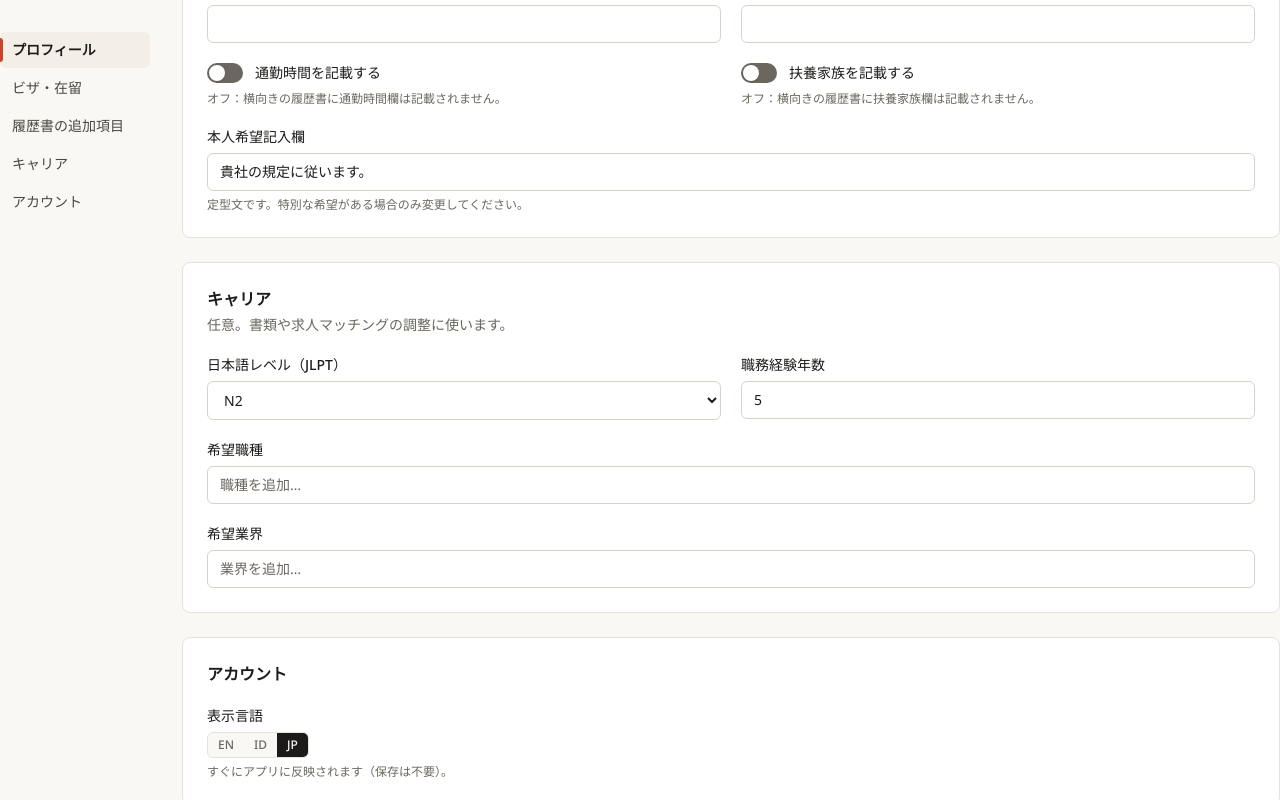
Scenario: settings page, the save bar › shows the years error in the language picked afterwards
The image size is (1280, 800).
(page scrolled)
Replace the text in the number field labelled "職務経験年数" with "81": (998, 400) [741,381,1255,419]
(page scrolled)
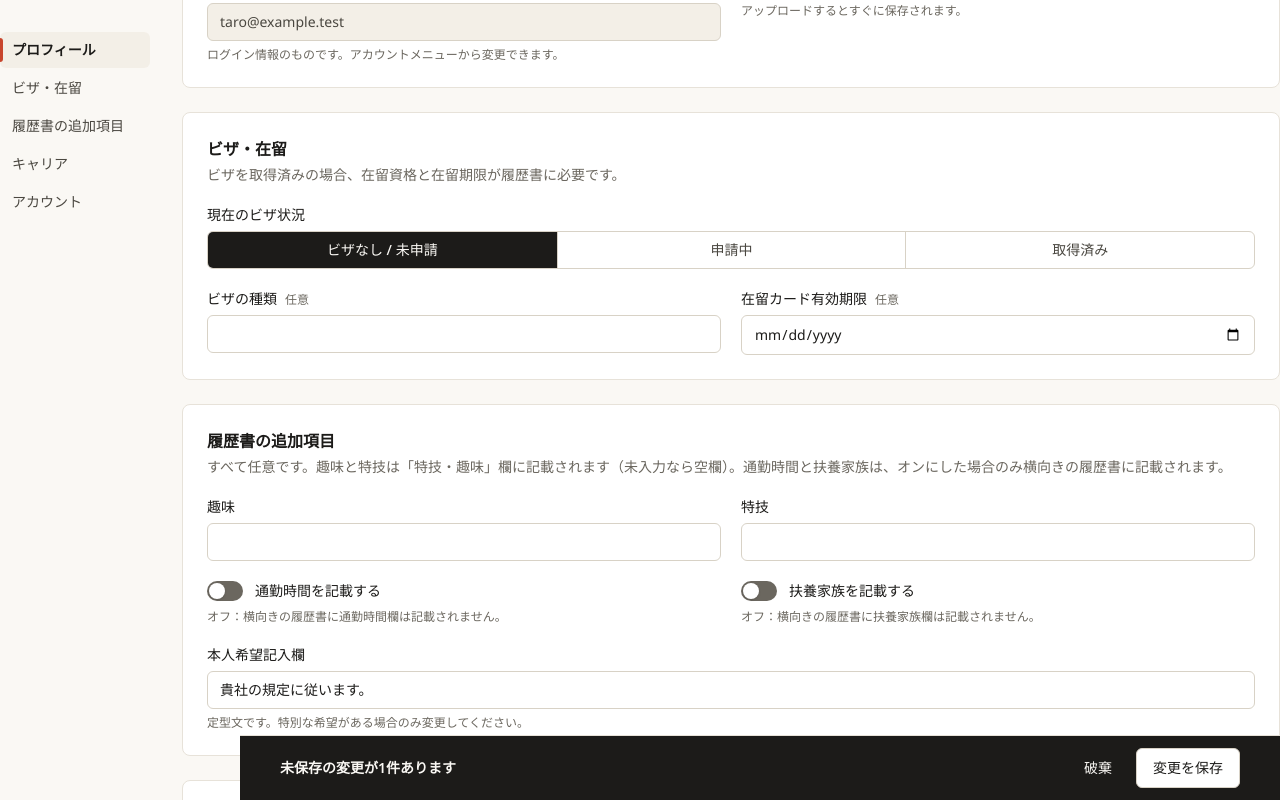
Submit the form
(page scrolled)
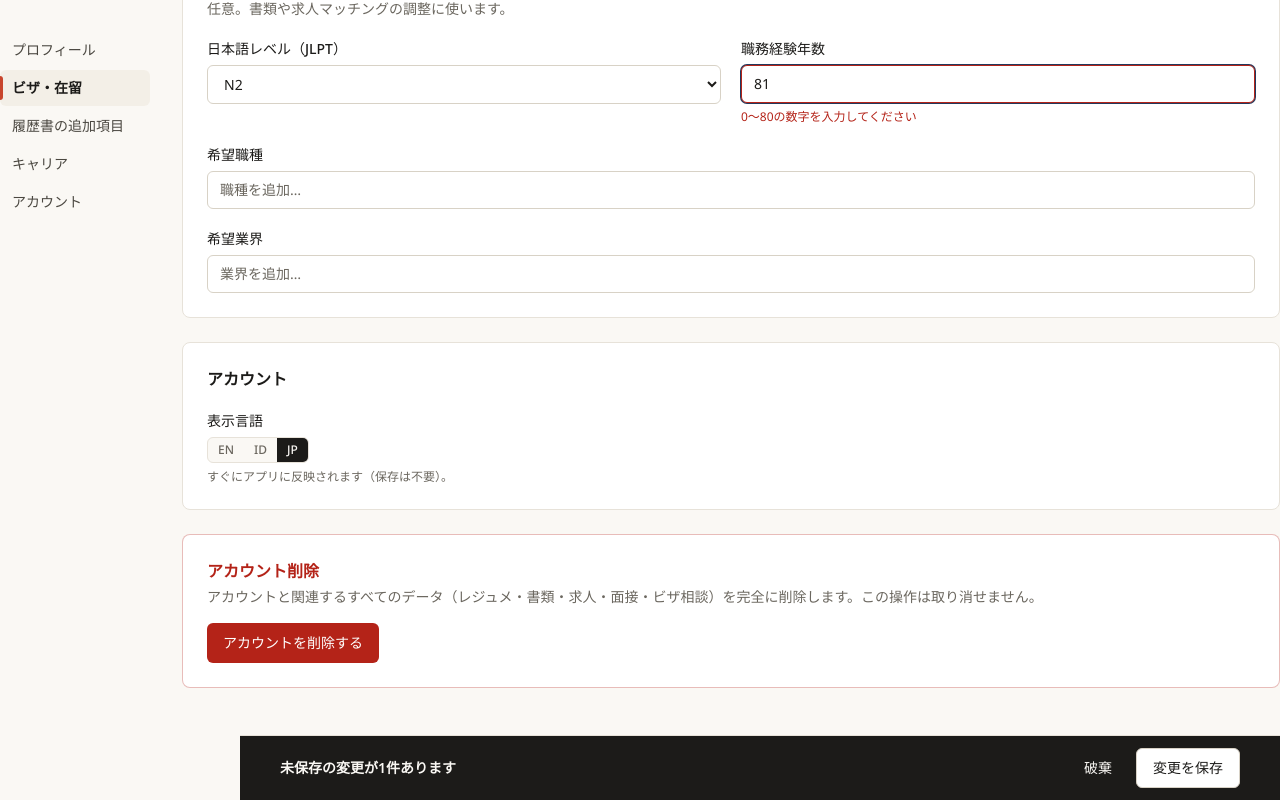
Click the button named "English": (226, 450) [208,438,244,462]
(page scrolled)
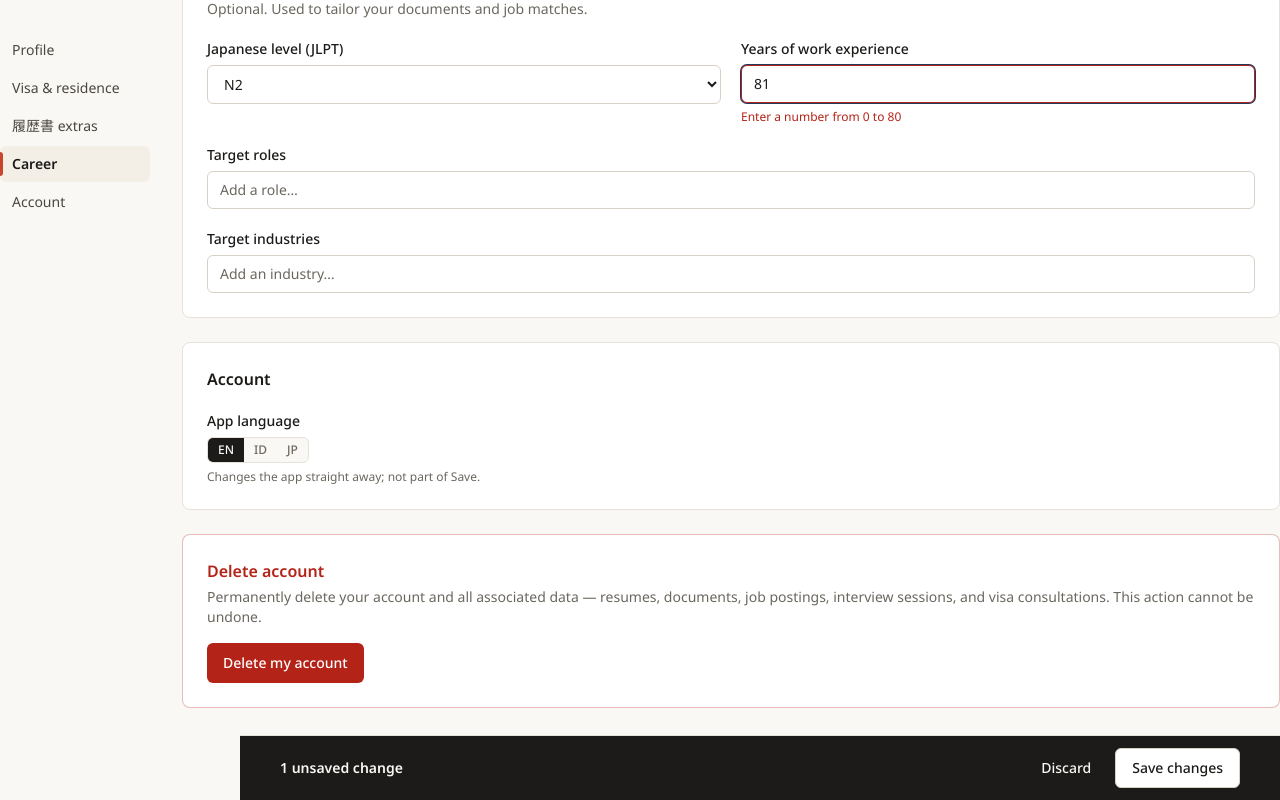
expect the text "Enter a number from 0 to 80" is shown: met, box [741,108,901,125]
